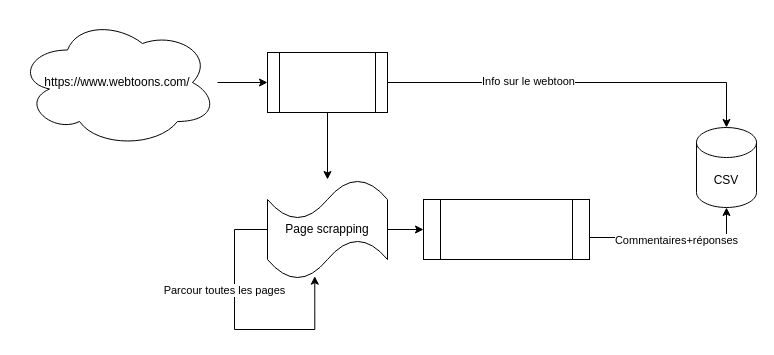
This 774x355 diagram has some shape labels left out. Each missing label, with the centre of its shape:
"-Scrap tous les commentaires -Scrap les réponses aux commentaires" goes at point (506, 229).
"Selenium" goes at point (327, 82).
